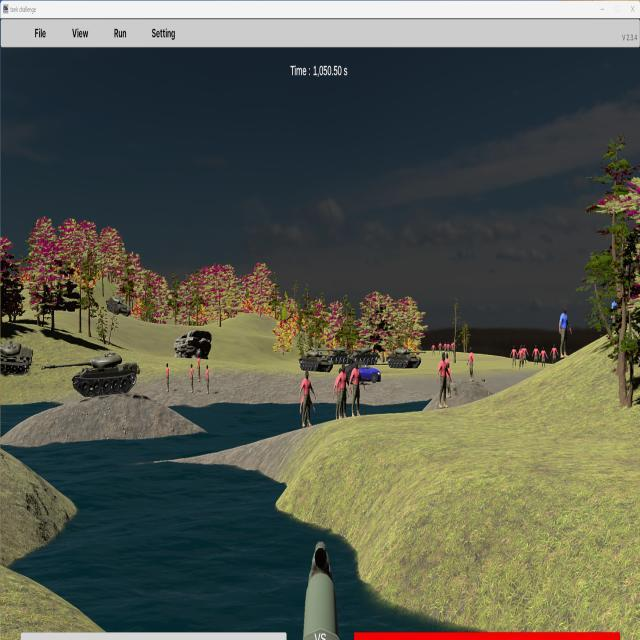Human: (300, 369, 316, 431), (334, 364, 350, 424), (349, 358, 364, 419), (438, 351, 450, 408)
Tank: (40, 351, 140, 398), (0, 340, 34, 376), (385, 347, 430, 369), (299, 349, 336, 372), (106, 295, 132, 317)
car: (348, 360, 382, 388)
